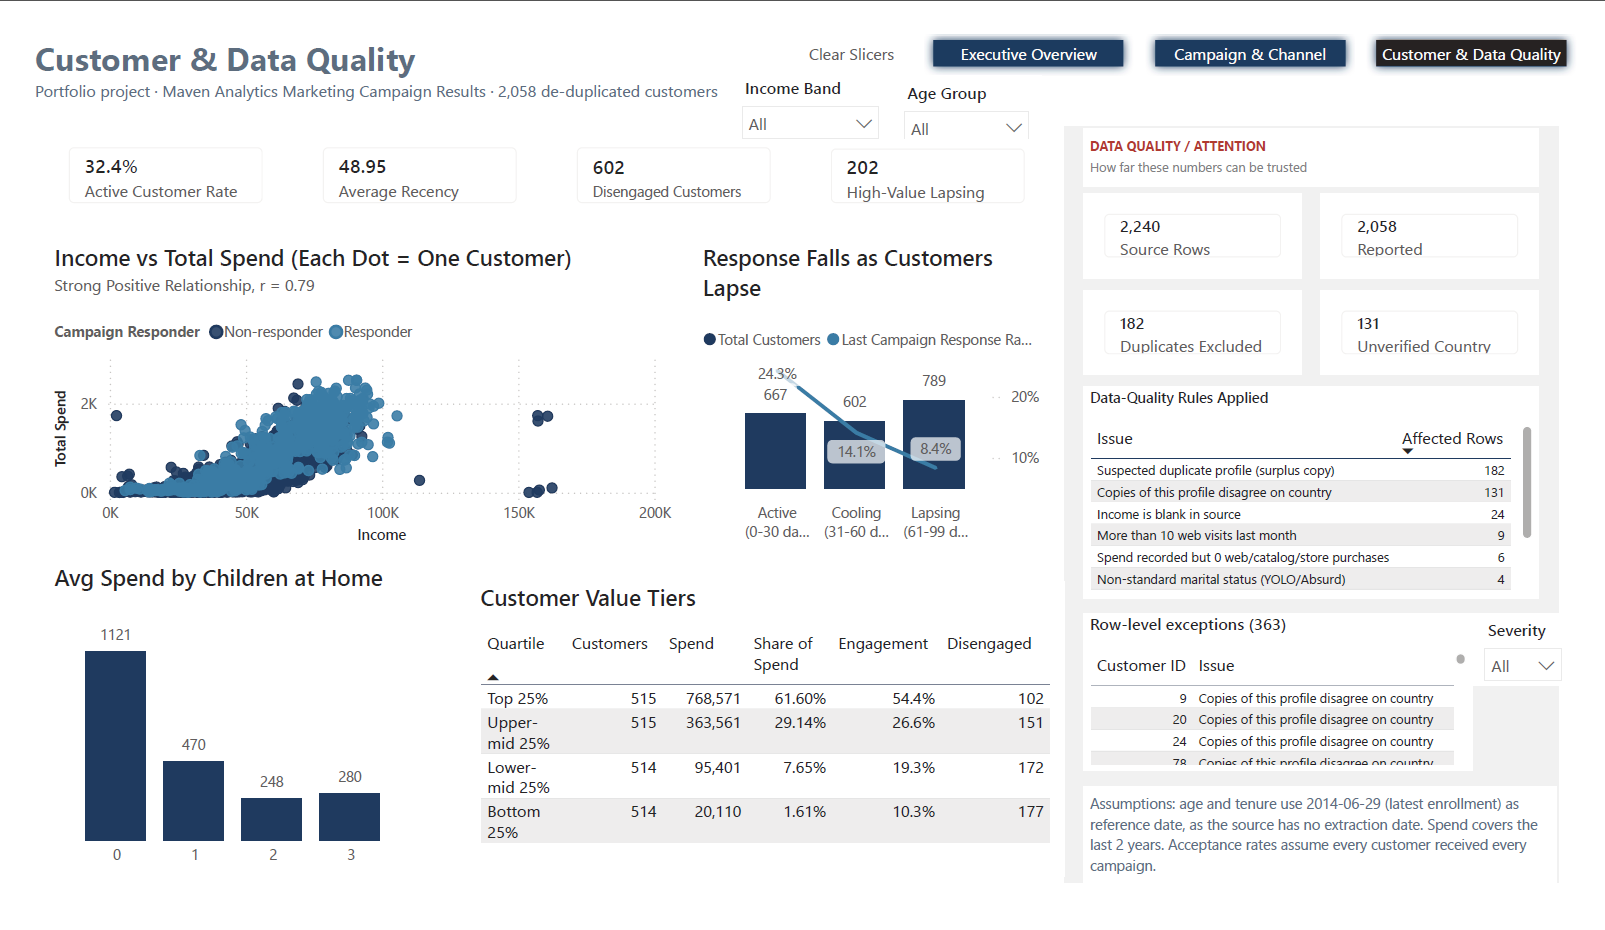

The page's visual inventory and layout, read from the dashboard file:
{"tool":"powerbi","page":{"name":"Customer & Data Quality","canvas":[1280,720],"ordinal":2},"visuals":[{"type":"shape","box":[856,80,408,625],"z":0},{"type":"textbox","box":[0,0,592.2,67.8],"z":1000},{"type":"cardVisual","fields":{"Data":["_Measures.Active Customer Rate %"]},"box":[16,80,194,80],"z":3000},{"type":"cardVisual","fields":{"Data":["_Measures.High-Value Lapsing Customers"]},"box":[646.5,80.8,193.9,78.8],"z":4000},{"type":"cardVisual","fields":{"Data":["_Measures.Disengaged Customers"]},"box":[436,80,194,80],"z":5000},{"type":"cardVisual","fields":{"Data":["_Measures.Average Recency (days)"]},"box":[226,80,194,80],"z":6000},{"type":"scatterChart","title":"Income vs Total Spend (Each Dot = One Customer)","fields":{"Category":["Customer.Customer ID"],"X":["Customer.Income"],"Y":["Sum(Customer.Total Spend)"],"Series":["Customer.Campaign Responder"]},"box":[16,175,520,255],"z":7000},{"type":"lineClusteredColumnComboChart","title":"Response Falls as Customers Lapse","fields":{"Category":["Customer.Recency Band"],"Y":["_Measures.Total Customers"],"Y2":["_Measures.Last Campaign Response Rate"]},"box":[552,175,288,255],"z":8000},{"type":"clusteredColumnChart","title":"Avg Spend by Children at Home","fields":{"Category":["Customer.Children At Home"],"Y":["_Measures.Average Customer Spend"]},"box":[15.6,439.6,307.4,260.7],"z":9000},{"type":"tableEx","title":"Customer Value Tiers","fields":{"Values":["Customer.Spend Quartile","_Measures.Total Customers","_Measures.Total Spending","Divide(_Measures.Total Spending, ScopedEval(_Measures.Total Spending, []))","_Measures.Campaign Engagement Rate","_Measures.Disengaged Customers"]},"box":[367.7,456.2,488.3,244.1],"z":10000},{"type":"textbox","box":[872.2,81.1,375.6,47.8],"z":11000},{"type":"cardVisual","fields":{"Data":["_Measures.Source Rows"]},"box":[872,135,180,70],"z":12000},{"type":"cardVisual","fields":{"Data":["_Measures.Excluded Duplicate Rows"]},"box":[872,215,180,70],"z":13000},{"type":"cardVisual","fields":{"Data":["_Measures.Unverified Country Customers"]},"box":[1068,215,180,70],"z":14000},{"type":"cardVisual","fields":{"Data":["_Measures.Total Customers"]},"box":[1068,135,180,70],"z":15000},{"type":"tableEx","title":"Data-Quality Rules Applied","fields":{"Values":["DQ Summary.Issue","DQ Summary.Affected Rows"]},"box":[872,295,376,175],"z":16000},{"type":"tableEx","title":"Row-level exceptions (363)","fields":{"Values":["DQ Exceptions.Customer ID","DQ Exceptions.Issue"]},"box":[872.5,482.4,321,129.4],"z":17000},{"type":"slicer","fields":{"Values":["DQ Exceptions.Severity"]},"box":[1193.4,482.4,83.6,59.3],"z":18000},{"type":"textbox","box":[872.5,625.4,391,94.3],"z":19000},{"type":"pageNavigator","box":[740,0,540.4,38.4],"z":20000},{"type":"actionButton","box":[640.4,4,79.8,30.3],"z":21000},{"type":"slicer","fields":{"Values":["Customer.Age Group"]},"box":[713.1,38.4,124.2,51.5],"z":22000},{"type":"slicer","fields":{"Values":["Customer.Income Band"]},"box":[578.8,34.3,134.3,55.6],"z":22500}]}

Visuals, with their boxes in screenshot pixels (x1, y1, x2, y2), scaled from the page's 1280x720 canvas onto the 1605x930 screenshot:
shape: l=1073, t=103, r=1585, b=911
textbox: l=0, t=0, r=743, b=88
cardVisual - _Measures.Active Customer Rate %: l=20, t=103, r=263, b=207
cardVisual - _Measures.High-Value Lapsing Customers: l=811, t=104, r=1054, b=206
cardVisual - _Measures.Disengaged Customers: l=547, t=103, r=790, b=207
cardVisual - _Measures.Average Recency (days): l=283, t=103, r=527, b=207
"Income vs Total Spend (Each Dot = One Customer)" scatterChart: l=20, t=226, r=672, b=555
"Response Falls as Customers Lapse" lineClusteredColumnComboChart: l=692, t=226, r=1053, b=555
"Avg Spend by Children at Home" clusteredColumnChart: l=20, t=568, r=405, b=905
"Customer Value Tiers" tableEx: l=461, t=589, r=1073, b=905
textbox: l=1094, t=105, r=1565, b=166
cardVisual - _Measures.Source Rows: l=1093, t=174, r=1319, b=265
cardVisual - _Measures.Excluded Duplicate Rows: l=1093, t=278, r=1319, b=368
cardVisual - _Measures.Unverified Country Customers: l=1339, t=278, r=1565, b=368
cardVisual - _Measures.Total Customers: l=1339, t=174, r=1565, b=265
"Data-Quality Rules Applied" tableEx: l=1093, t=381, r=1565, b=607
"Row-level exceptions (363)" tableEx: l=1094, t=623, r=1497, b=790
slicer - DQ Exceptions.Severity: l=1496, t=623, r=1601, b=700
textbox: l=1094, t=808, r=1584, b=929
pageNavigator: l=928, t=0, r=1604, b=50
actionButton: l=803, t=5, r=903, b=44
slicer - Customer.Age Group: l=894, t=50, r=1050, b=116
slicer - Customer.Income Band: l=726, t=44, r=894, b=116
